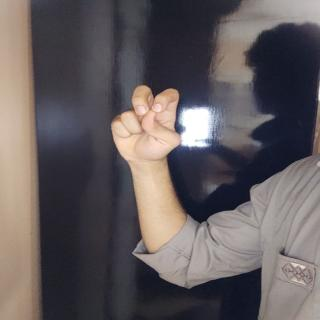QAAF: (105, 80, 189, 165)
